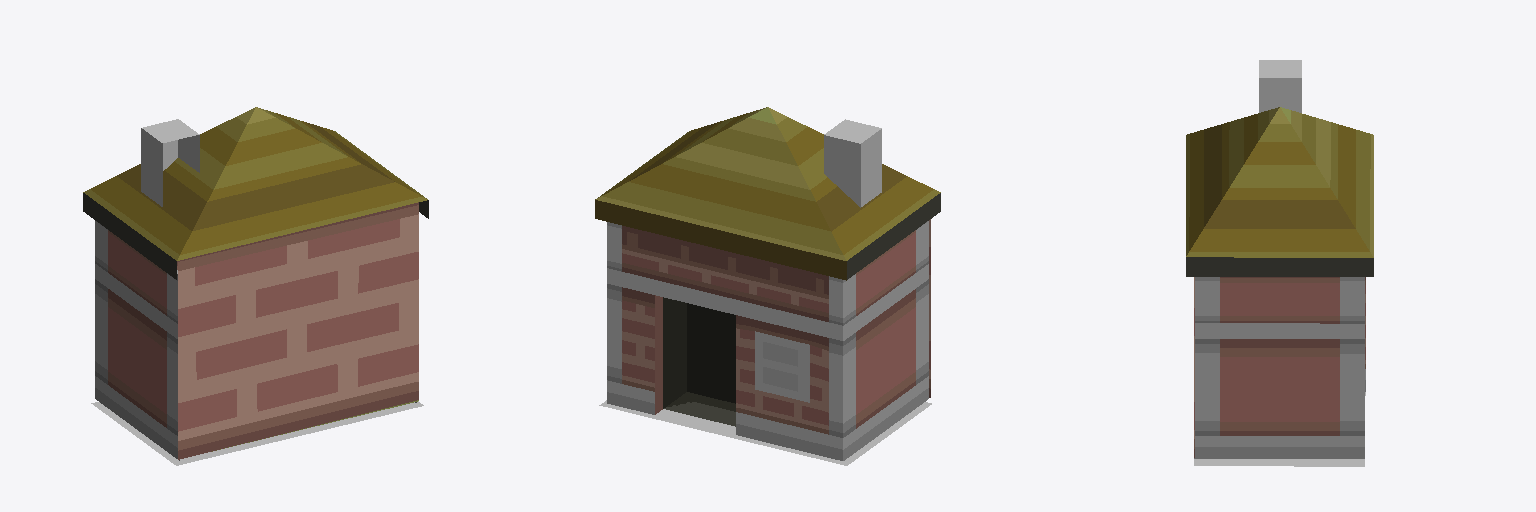
3 renders of one model, left to right at view 1: azimuth 30°, elevation 25°; view 2: azimuth 150°, elevation 25°; view 3: azimuth 270°, elevation 25°, orthographic.
Parts seen in each view (by area): view 1: PastoriaCityHouse, Cube.002; view 2: PastoriaCityHouse; view 3: PastoriaCityHouse.
Boxes of the visible parts, box(x1,y1,x2,y2) form: PastoriaCityHouse: box(83, 107, 428, 465); Cube.002: box(178, 202, 418, 459); PastoriaCityHouse: box(595, 107, 940, 465); PastoriaCityHouse: box(1186, 60, 1373, 466).
Bounding box in the file's own units: 68.09 × 77 × 44.14.
5 materials, 1 textured.